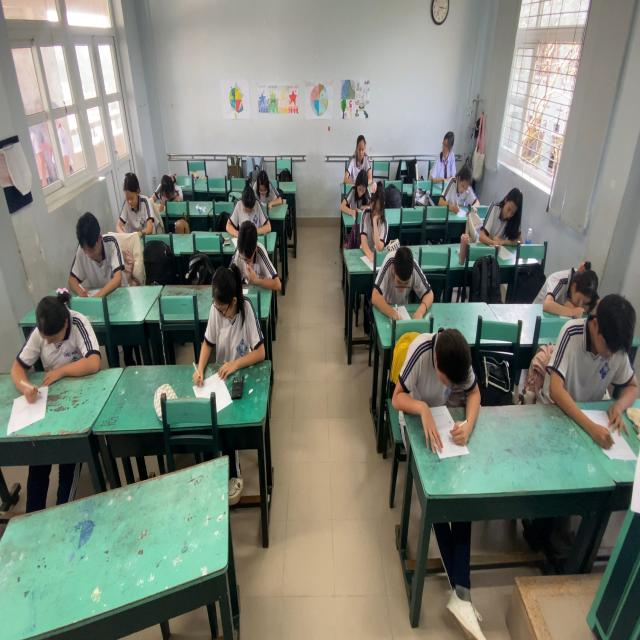cheating: (435, 120, 461, 186)
not_cheating: (562, 286, 632, 441), (13, 286, 103, 386), (412, 305, 472, 443), (206, 266, 260, 375), (378, 234, 435, 328), (72, 204, 126, 302), (542, 242, 588, 322), (228, 215, 278, 282), (481, 176, 519, 256), (121, 166, 153, 249), (232, 179, 272, 238), (151, 146, 186, 208), (358, 186, 389, 253), (449, 157, 476, 224), (249, 157, 286, 205), (346, 127, 376, 179), (342, 161, 372, 203)
